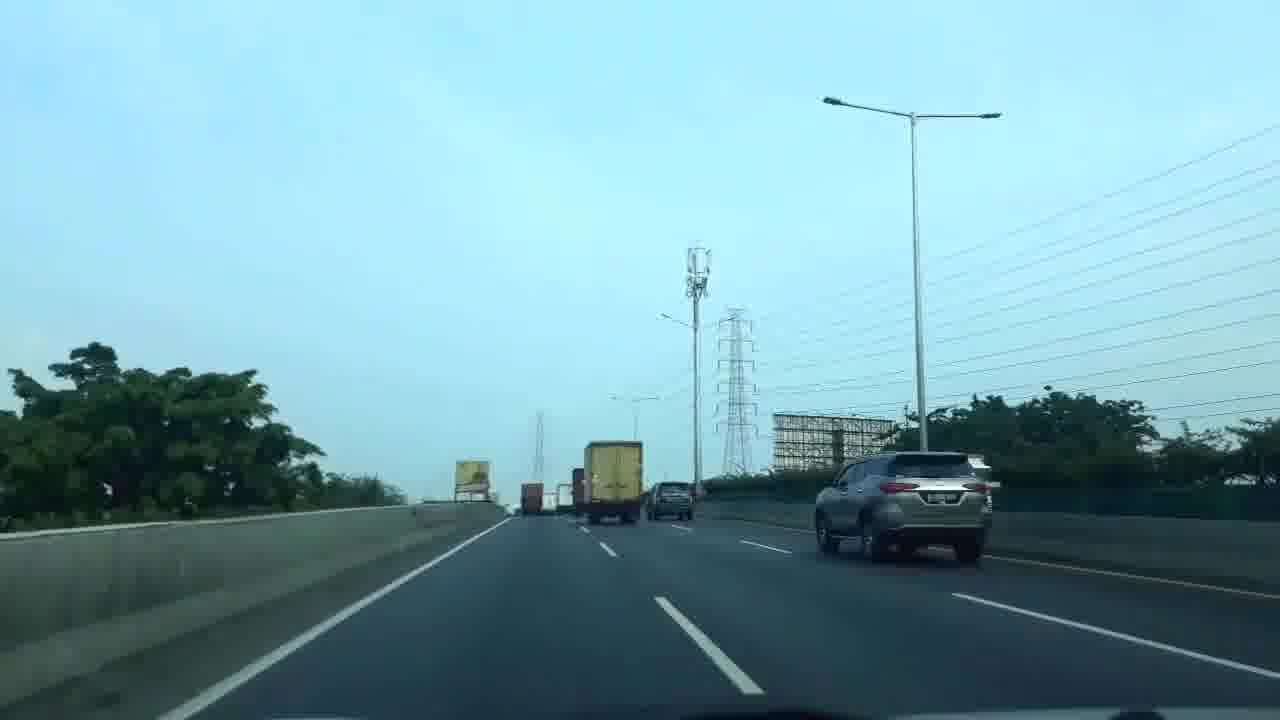plate_positive: (927, 493, 958, 503)
